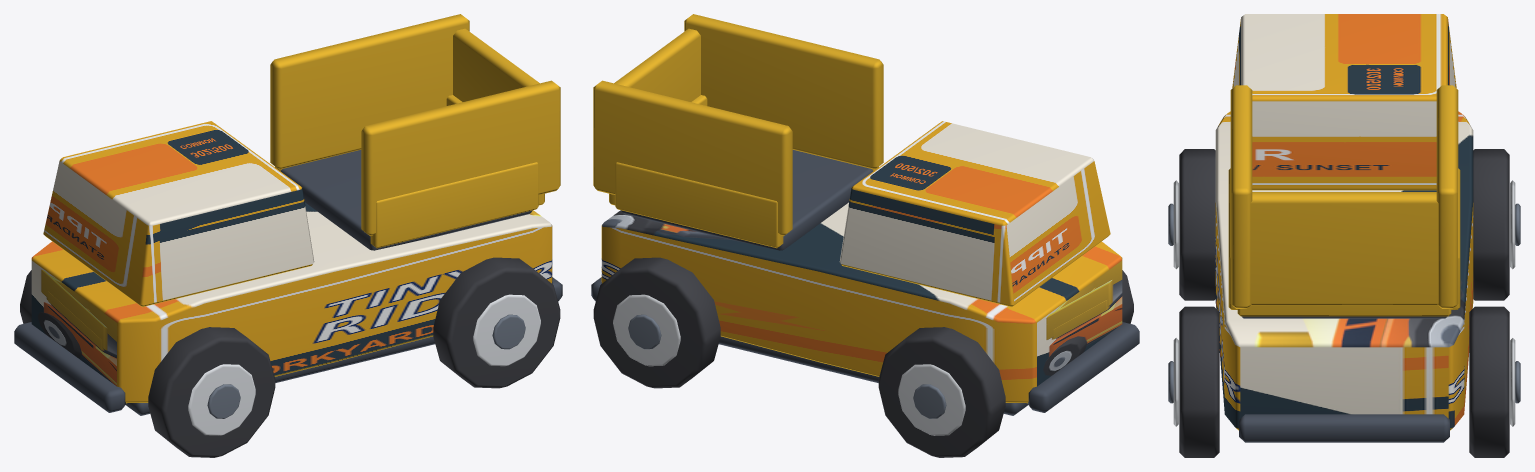
3 views of the same model, side by side, from view 1: azimuth 30°, elevation 25°; view 2: azimuth 150°, elevation 25°; view 3: azimuth 270°, elevation 25° (orthographic). The views are drawn at different scales.
Parts seen in each view (by area): view 1: WY-01_connected_shell, WY-01_cabin, raised tipper wall.001, raised tipper wall, Tire, Tire.002, cargo side, cargo floor, raised tail gate, front bumper, Rim, Rim.002 (+3 smaller); view 2: WY-01_connected_shell, WY-01_cabin, raised tipper wall, raised tipper wall.001, Tire.001, Tire.003, cargo side.001, cargo floor, raised tail gate, front bumper, Rim.001, Rim.003 (+3 smaller); view 3: WY-01_cabin, WY-01_connected_shell, raised tail gate, Tire.002, Tire.003, rear bumper, Tire, Tire.001, raised tipper wall, raised tipper wall.001, cargo tail, cargo floor (+6 smaller).
Boxes of the visible parts, left/top/right/bottom form: WY-01_connected_shell: left=31, top=202, right=552, bottom=403; WY-01_cabin: left=43, top=121, right=314, bottom=307; raised tipper wall.001: left=270, top=14, right=469, bottom=169; raised tipper wall: left=361, top=80, right=560, bottom=235; Tire: left=148, top=327, right=275, bottom=457; Tire.002: left=433, top=257, right=560, bottom=388; cargo side: left=370, top=162, right=538, bottom=248; cargo floor: left=280, top=150, right=532, bottom=250; raised tail gate: left=453, top=28, right=539, bottom=101; front bumper: left=14, top=322, right=125, bottom=412; Rim: left=188, top=364, right=255, bottom=435; Rim.002: left=473, top=294, right=540, bottom=366; WY-01_connected_shell: left=601, top=202, right=1122, bottom=403; WY-01_cabin: left=839, top=121, right=1110, bottom=307; raised tipper wall: left=684, top=14, right=883, bottom=169; raised tipper wall.001: left=593, top=80, right=792, bottom=235; Tire.001: left=878, top=327, right=1005, bottom=457; Tire.003: left=593, top=257, right=720, bottom=388; cargo side.001: left=615, top=162, right=783, bottom=248; cargo floor: left=621, top=150, right=873, bottom=250; raised tail gate: left=614, top=28, right=700, bottom=101; front bumper: left=1028, top=322, right=1139, bottom=412; Rim.001: left=898, top=364, right=965, bottom=435; Rim.003: left=613, top=294, right=680, bottom=366; WY-01_cabin: left=1232, top=14, right=1456, bottom=190; WY-01_connected_shell: left=1215, top=111, right=1473, bottom=430; raised tail gate: left=1250, top=192, right=1438, bottom=305; Tire.002: left=1179, top=306, right=1219, bottom=457; Tire.003: left=1469, top=306, right=1509, bottom=457; rear bumper: left=1239, top=414, right=1449, bottom=442; Tire: left=1179, top=149, right=1215, bottom=300; Tire.001: left=1473, top=149, right=1509, bottom=300; raised tipper wall: left=1230, top=85, right=1252, bottom=308; raised tipper wall.001: left=1436, top=85, right=1458, bottom=308; cargo tail: left=1237, top=306, right=1451, bottom=316; cargo floor: left=1241, top=316, right=1447, bottom=318.
Size of the model in its own units: 387 by 216 by 227.
